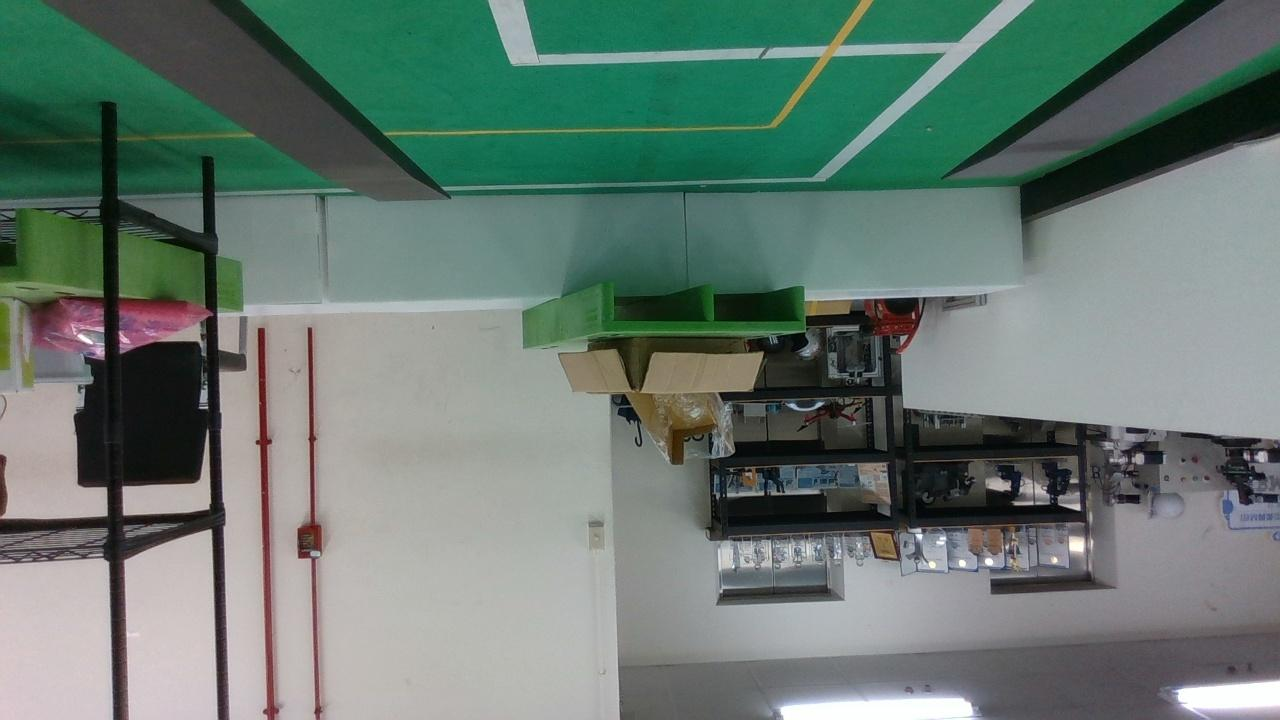Pallet: (593, 279, 812, 344)
